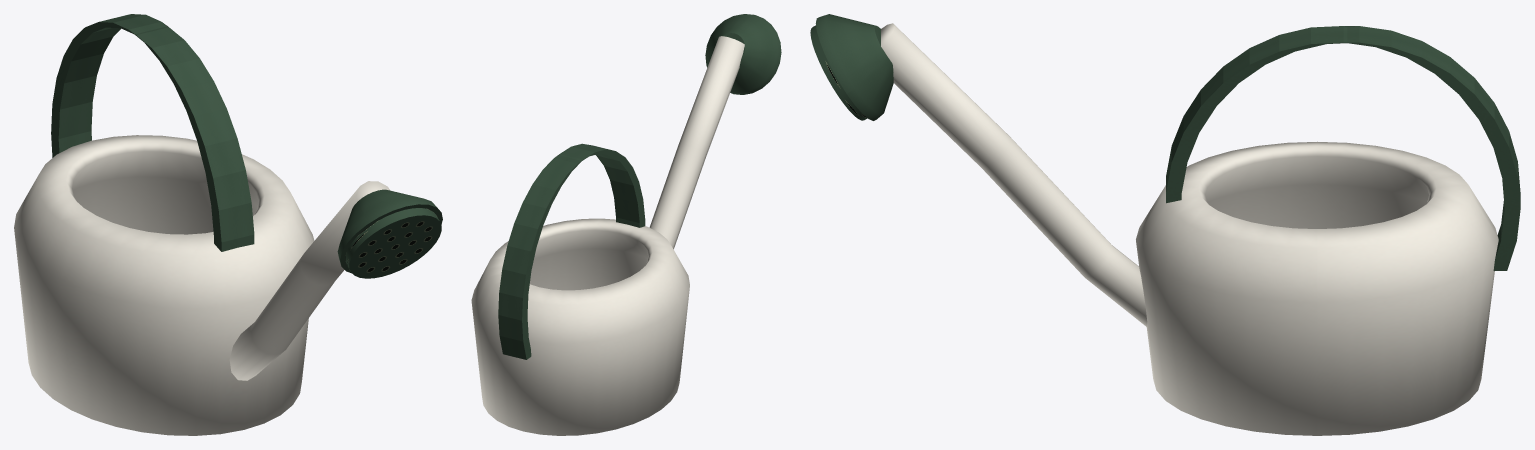
File: WateringCan.fbx
3 renders of one model, left to right at view 1: azimuth 30°, elevation 25°; view 2: azimuth 150°, elevation 25°; view 3: azimuth 270°, elevation 25°, orthographic. The views are drawn at different scales.
Parts seen in each view (by area): view 1: WateringCan_Mesh; view 2: WateringCan_Mesh; view 3: WateringCan_Mesh.
Boxes of the visible parts, <box> form: WateringCan_Mesh: <box>14,14,442,435</box>; WateringCan_Mesh: <box>471,14,781,435</box>; WateringCan_Mesh: <box>810,14,1520,435</box>.
Size of the model in its own units: 0.1504 by 0.2078 by 0.3598.
Materials: 1 (1 with a texture image).
